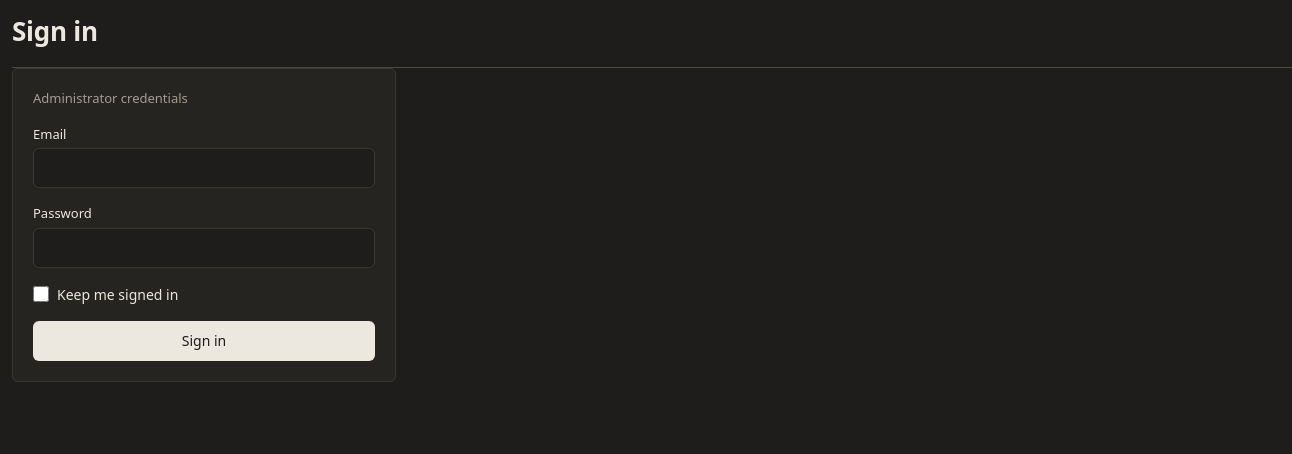
it: SignInPage › surfaces the server's own sentence when sign-in fails
The width and height of the screenshot is (1292, 454).
Type "admin@example.test" into the field labelled "Email" at x=204, y=168, box 33,148 -> 375,188
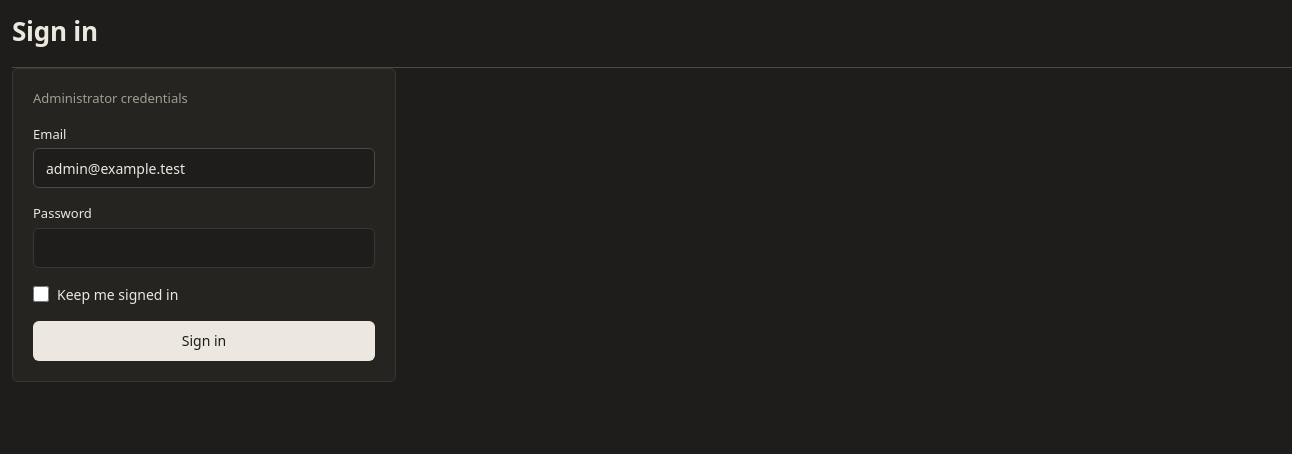
Type "wrong" into the password field labelled "Password" at x=204, y=248, box 33,228 -> 375,268
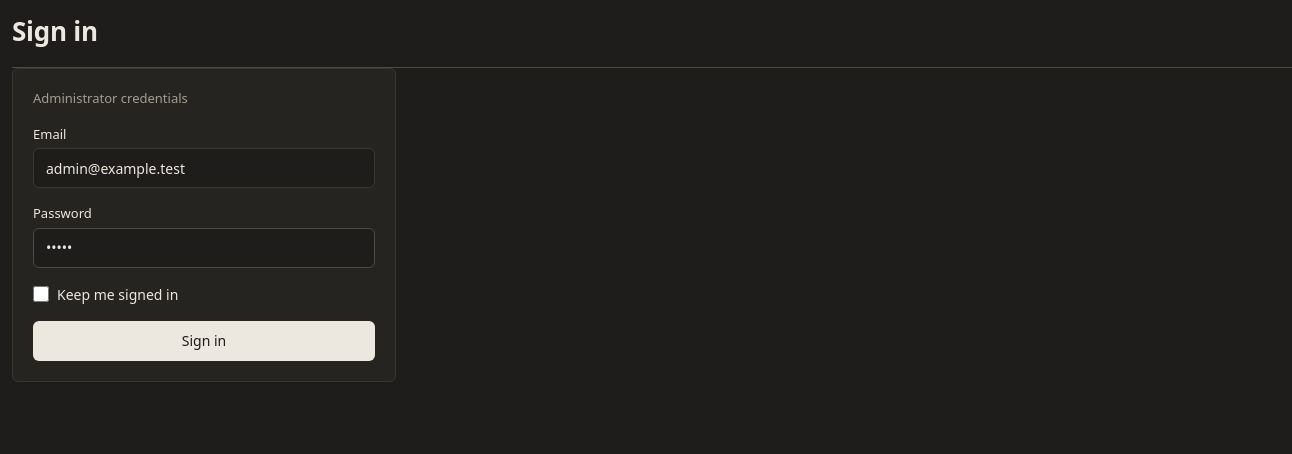
Click the button "Sign in" at x=204, y=340, box 33,320 -> 375,360
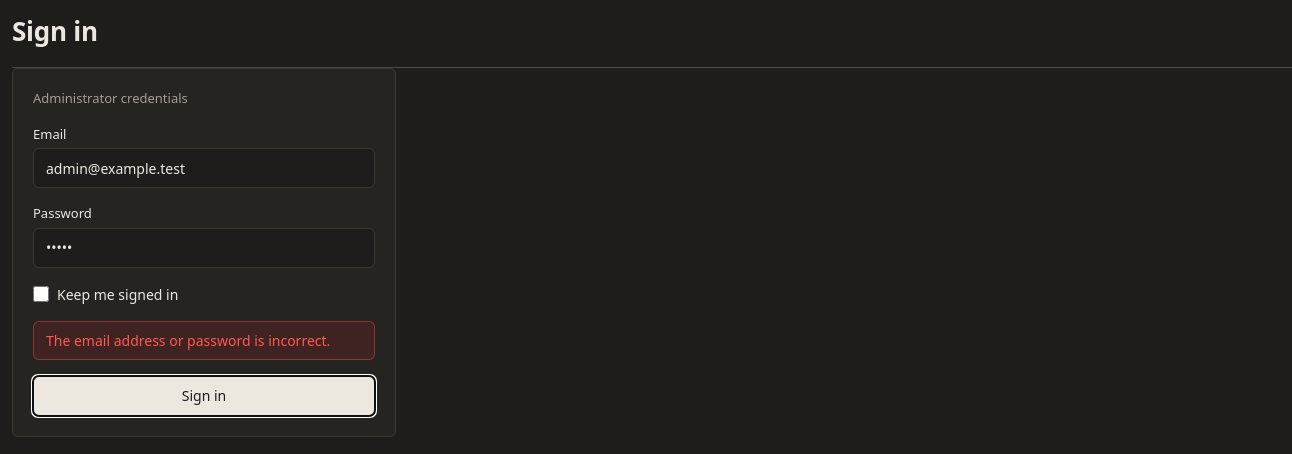
Expected: the message reads "The email address or password is incorrect.", 46,330 -> 330,350
